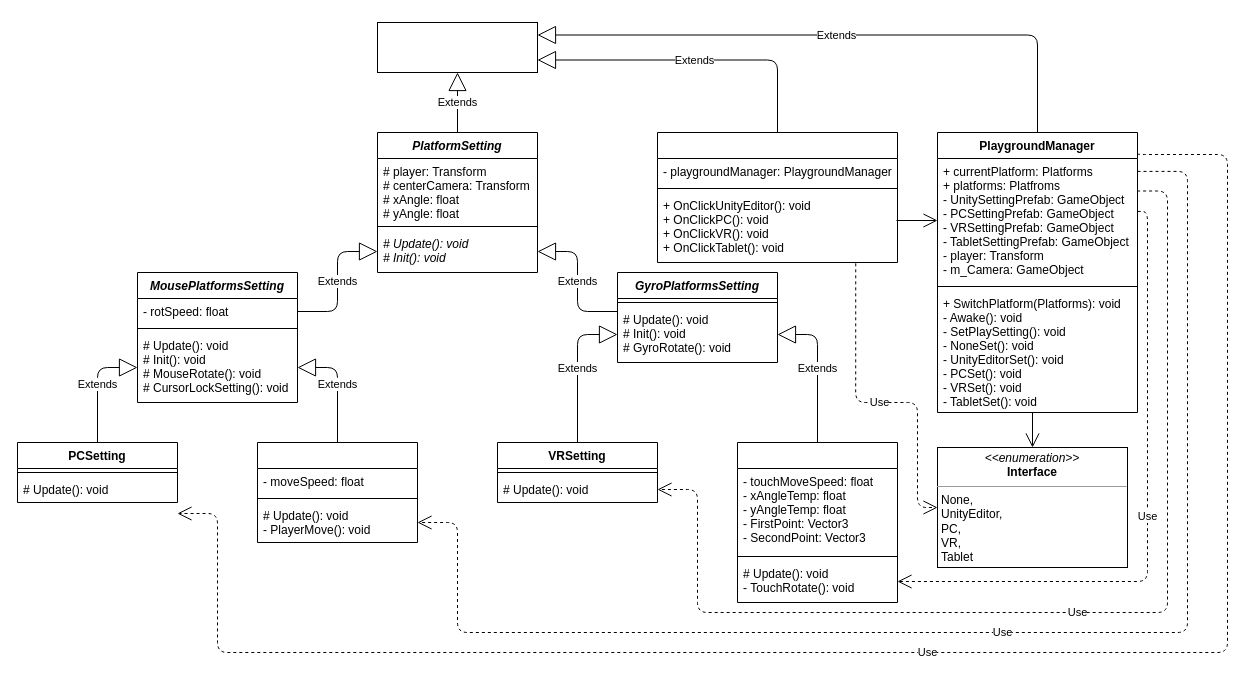
This 1259x684 diagram has some shape labels left out. Here are the shapes that lost their labels. From the top down, the box of each, then its label:
(376, 22, 538, 72): «namespace» ProjectName.Platforms
(656, 132, 898, 262): SwitchPlatforms
(256, 442, 418, 542): UnityEditorSetting
(736, 442, 898, 602): TabletSetting
